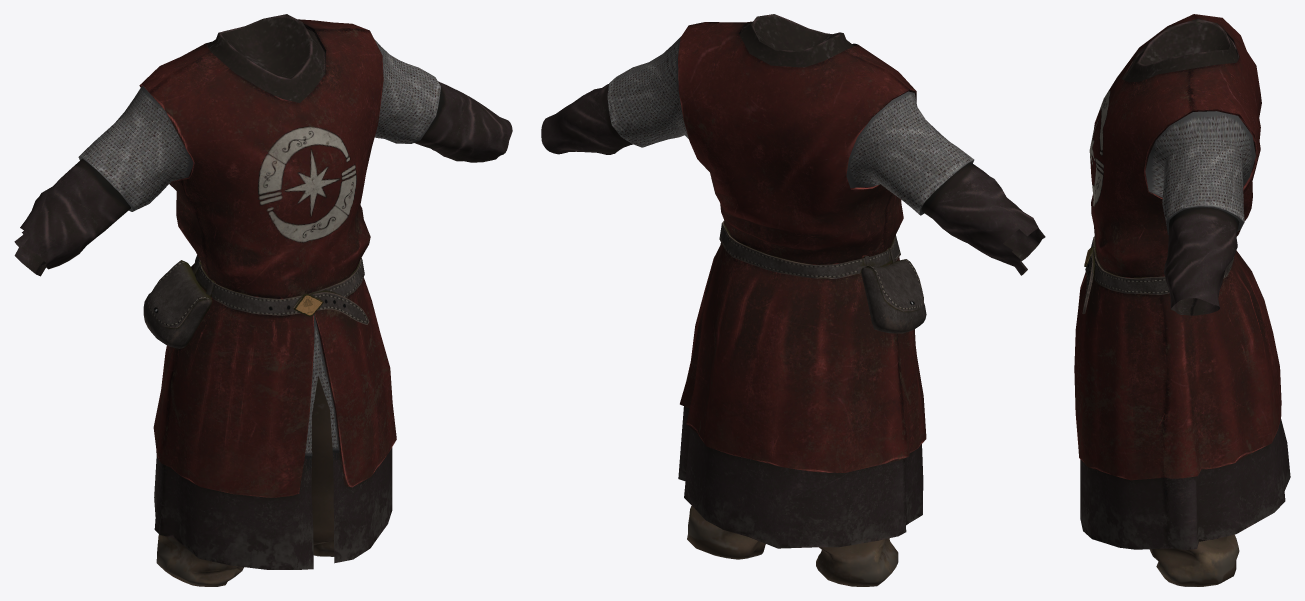
File: cts_gondor_armor1_slim.fbx
The picture shows the model from 3 angles, left to right: view 1: azimuth 30°, elevation 25°; view 2: azimuth 150°, elevation 25°; view 3: azimuth 270°, elevation 25°; orthographic projection. The views are drawn at different scales.
Visible parts, largest first — view 1: cts_gondor_armor1_slim; view 2: cts_gondor_armor1_slim; view 3: cts_gondor_armor1_slim.
Part boxes in pixels (box(x1,y1,x2,y2)): cts_gondor_armor1_slim: box(14, 14, 512, 586); cts_gondor_armor1_slim: box(541, 14, 1045, 586); cts_gondor_armor1_slim: box(1074, 14, 1290, 586).
Bounding box in the file's own units: 1.14 × 0.4511 × 1.18.
1 material, 1 textured.
